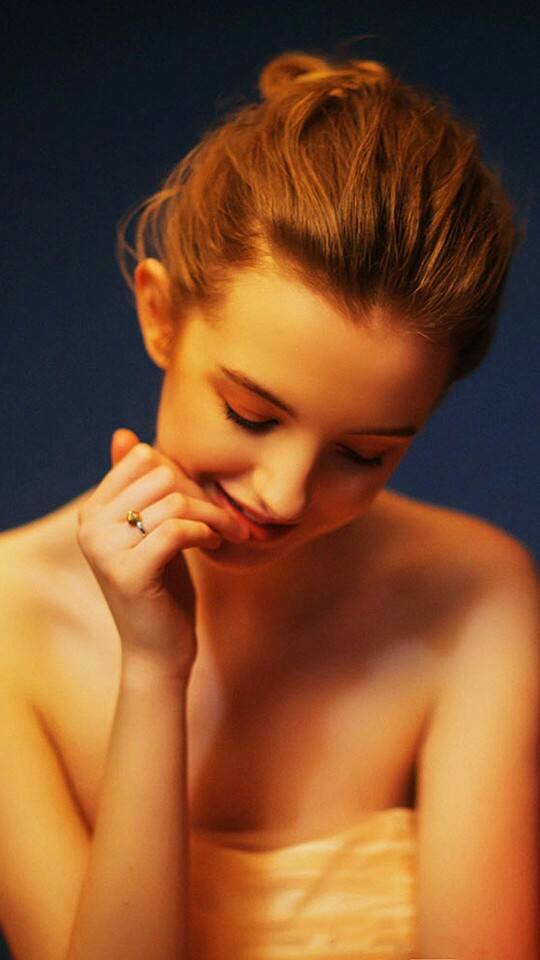person: (108, 89, 534, 960)
